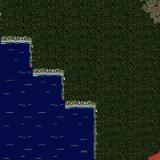Interaction: (0, 27, 43, 48), (22, 48, 44, 83), (85, 116, 102, 160), (52, 84, 73, 116), (44, 63, 73, 84), (73, 98, 102, 117)
Slow: (0, 44, 30, 160), (30, 75, 61, 160), (60, 108, 91, 160)
